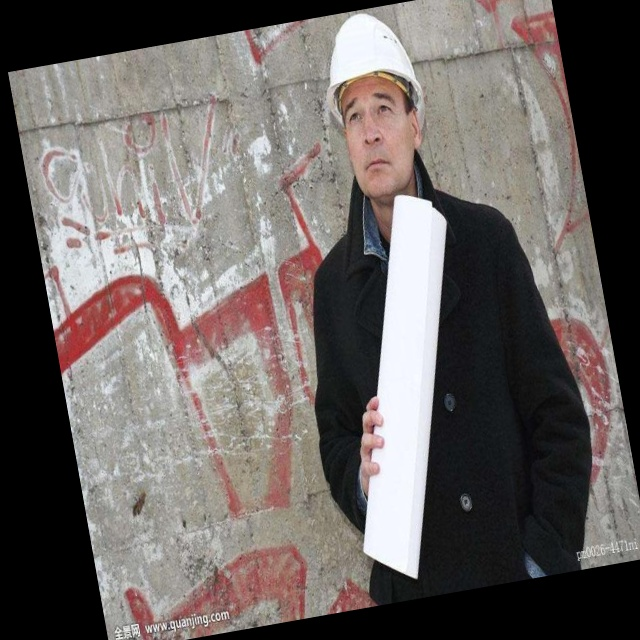Con_Casco: (315, 2, 438, 209)
